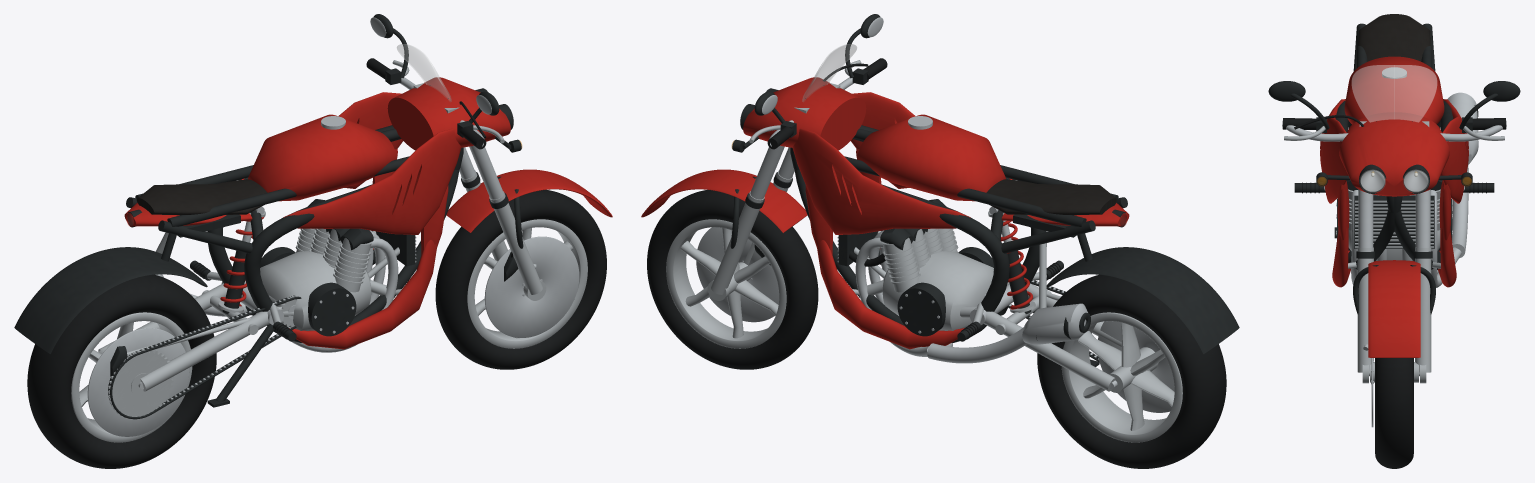
The model's file is sport-motorcycle.glb.
3 renders of one model, left to right at view 1: azimuth 30°, elevation 25°; view 2: azimuth 150°, elevation 25°; view 3: azimuth 270°, elevation 25°, orthographic.
Parts seen in each view (by area): view 1: Rear rounded tyre carcass, Front rounded tyre carcass, Original sculpted fuel tank, Sculpted open-vent upper sport cowl -1, Finite rear wheel arch, Front finite brake rotor, Lofted upper nose fairing with open optical chambers, Rear finite brake rotor, Cast engine crankcase, Rising swept sport belly cowl -1, Finite formed front mudguard, Closed contoured rider and pillion saddle (+22 smaller); view 2: Rear rounded tyre carcass, Front rounded tyre carcass, Original sculpted fuel tank, Sculpted open-vent upper sport cowl 1, Finite rear wheel arch, Lofted upper nose fairing with open optical chambers, Rear turned rim and bead seats, Front turned rim and bead seats, Cast engine crankcase, Rising swept sport belly cowl 1, Finite formed front mudguard, Closed contoured rider and pillion saddle (+27 smaller); view 3: Lofted upper nose fairing with open optical chambers, Finite formed front mudguard, Original sculpted fuel tank, Front rounded tyre carcass, Finite curved windscreen, Closed contoured rider and pillion saddle, Sculpted open-vent upper sport cowl 1, Sculpted open-vent upper sport cowl -1, Fork lower slider 1, Closed radiator matrix, Fork lower slider -1, Fork upper stanchion 1 (+25 smaller).
Boxes of the visible parts, <box> form: Rear rounded tyre carcass: <box>27,274,216,468</box>; Front rounded tyre carcass: <box>435,189,606,369</box>; Original sculpted fuel tank: <box>248,114,396,201</box>; Sculpted open-vent upper sport cowl -1: <box>283,128,461,234</box>; Finite rear wheel arch: <box>14,247,207,353</box>; Front finite brake rotor: <box>484,236,579,337</box>; Lofted upper nose fairing with open optical chambers: <box>387,77,510,150</box>; Rear finite brake rotor: <box>87,328,189,436</box>; Cast engine crankcase: <box>260,250,371,330</box>; Rising swept sport belly cowl -1: <box>289,240,437,349</box>; Finite formed front mudguard: <box>446,169,612,232</box>; Closed contoured rider and pillion saddle: <box>136,179,267,215</box>; Rear rounded tyre carcass: <box>1037,274,1226,468</box>; Front rounded tyre carcass: <box>647,189,818,369</box>; Original sculpted fuel tank: <box>857,114,1005,201</box>; Sculpted open-vent upper sport cowl 1: <box>792,128,970,234</box>; Finite rear wheel arch: <box>1046,247,1239,353</box>; Lofted upper nose fairing with open optical chambers: <box>743,77,866,150</box>; Rear turned rim and bead seats: <box>1061,312,1182,442</box>; Front turned rim and bead seats: <box>666,219,786,348</box>; Cast engine crankcase: <box>882,250,993,330</box>; Rising swept sport belly cowl 1: <box>816,240,964,349</box>; Finite formed front mudguard: <box>641,169,807,232</box>; Closed contoured rider and pillion saddle: <box>986,179,1117,215</box>; Lofted upper nose fairing with open optical chambers: <box>1339,112,1449,196</box>; Finite formed front mudguard: <box>1368,260,1420,357</box>; Original sculpted fuel tank: <box>1344,56,1444,124</box>; Front rounded tyre carcass: <box>1375,358,1413,468</box>; Finite curved windscreen: <box>1352,65,1436,122</box>; Closed contoured rider and pillion saddle: <box>1358,14,1430,61</box>; Sculpted open-vent upper sport cowl 1: <box>1440,99,1468,203</box>; Sculpted open-vent upper sport cowl -1: <box>1320,99,1348,203</box>; Fork lower slider 1: <box>1415,247,1431,372</box>; Closed radiator matrix: <box>1354,195,1434,248</box>; Fork lower slider -1: <box>1357,247,1373,372</box>; Fork upper stanchion 1: <box>1415,189,1430,247</box>.
Bounding box in the file's own units: 2.08 × 1.18 × 0.782.
Materials: 12 (12 with a texture image).
